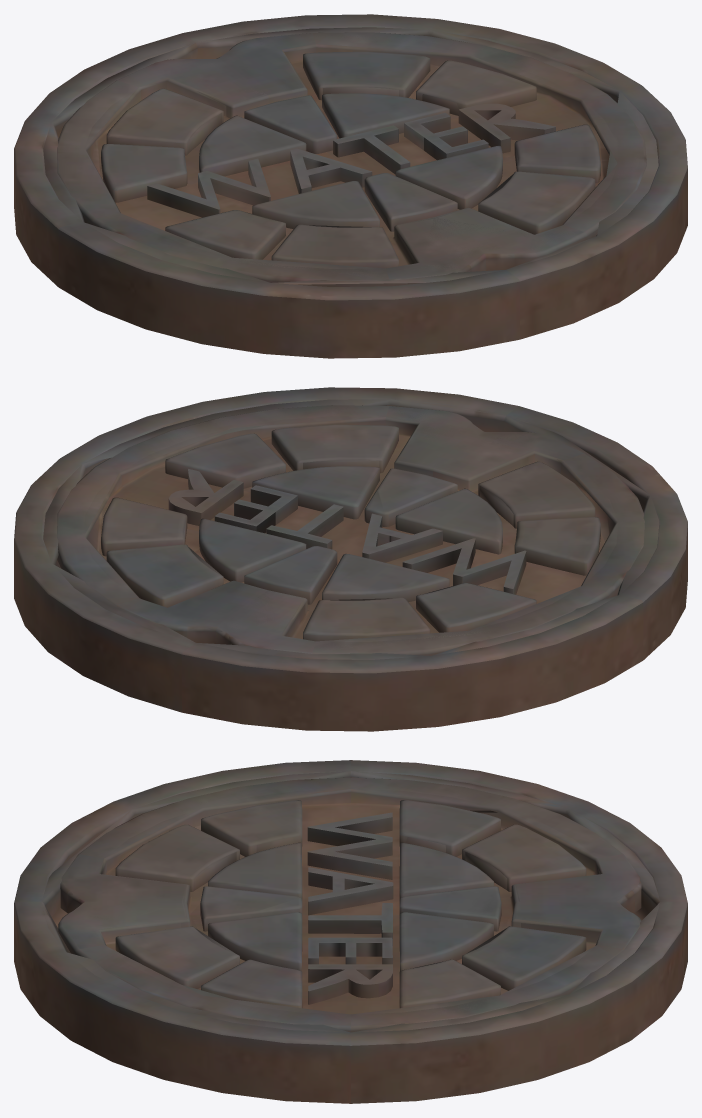
File: water_manhole_cover.glb
3 renders of one model, top to bottom at view 1: azimuth 30°, elevation 25°; view 2: azimuth 150°, elevation 25°; view 3: azimuth 270°, elevation 25°, orthographic.
Visible parts, largest first — view 1: water_manhole_cover_frame, water_manhole_cover_frame_lo; view 2: water_manhole_cover_frame, water_manhole_cover_frame_lo; view 3: water_manhole_cover_frame, water_manhole_cover_frame_lo.
Boxes of the visible parts, box(x1,y1,x2,y2) form: water_manhole_cover_frame: box(14, 14, 687, 358); water_manhole_cover_frame_lo: box(43, 27, 658, 286); water_manhole_cover_frame: box(14, 387, 687, 731); water_manhole_cover_frame_lo: box(43, 399, 659, 659); water_manhole_cover_frame: box(14, 760, 687, 1103); water_manhole_cover_frame_lo: box(41, 771, 660, 1032).
Bounding box in the file's own units: 0.6908 × 0.0676 × 0.6908.
Materials: 1 (1 with a texture image).
